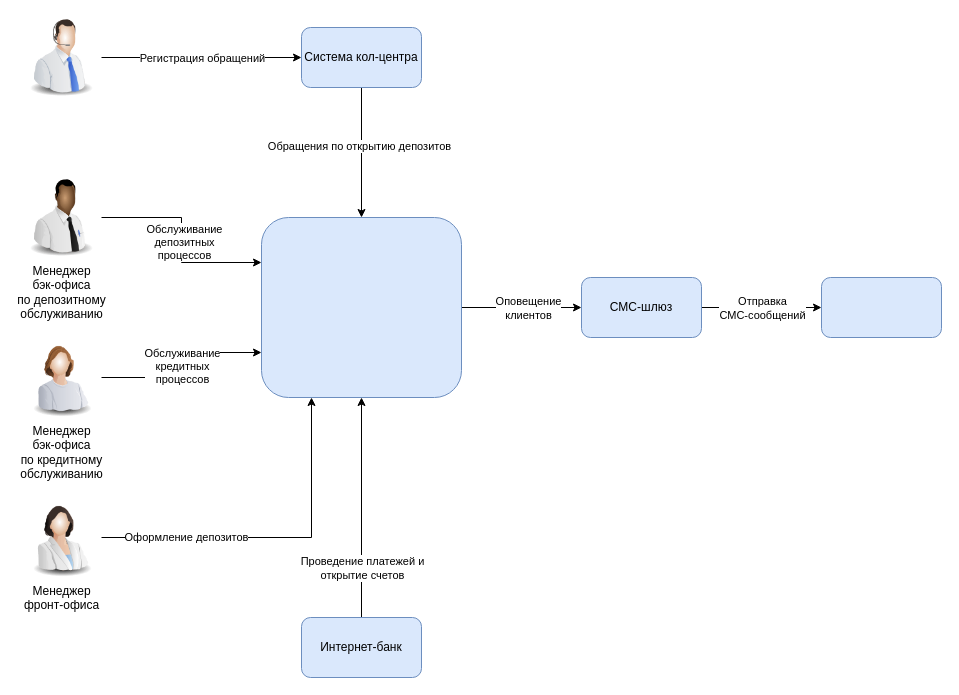
The diagram is 959 pixels wide and 695 high, and some of its shapes have lost their labels. Here are the shapes that lost their labels. From the top down, the centre of each, then its label:
pixel 61 57: Сотрудник кол-центра
pixel 361 307: Автоматизированная банковская система
pixel 881 307: Телеком-оператор
